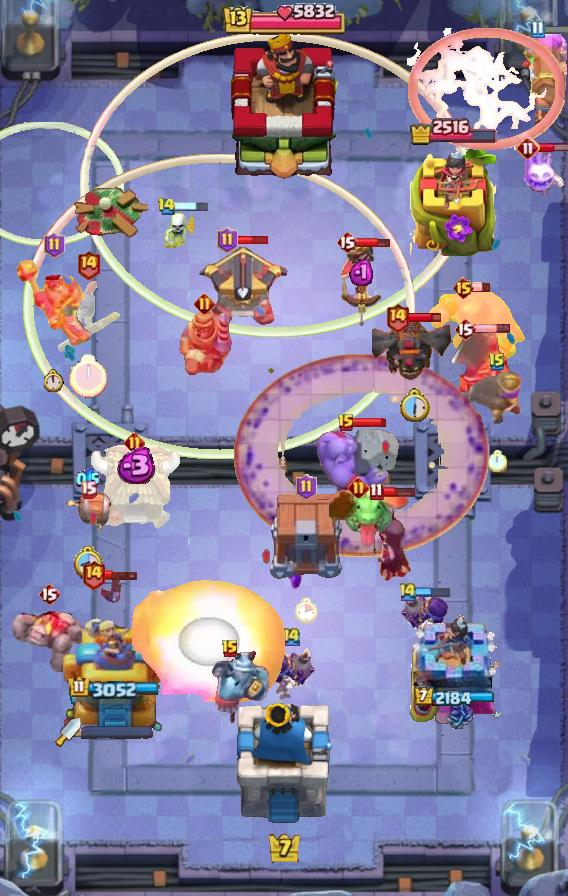archer-evolution: (372, 317, 456, 383)
archer-queen: (313, 424, 403, 502)
bar: (61, 615, 166, 731)
barbarian-barrel: (97, 575, 123, 605)
barbarian-evolution: (407, 28, 565, 150)
battle-healer: (522, 27, 568, 131)
bomb: (267, 494, 345, 580)
bomb-tower: (470, 370, 524, 424)
bomber-evolution: (337, 239, 385, 331)
clock: (221, 0, 347, 40)
clone: (427, 287, 527, 371)
electro-spirit: (111, 447, 156, 484), (349, 257, 373, 286), (76, 467, 100, 491)
electro-wizard: (329, 484, 411, 550)
elixir: (69, 354, 107, 398), (398, 389, 430, 423), (73, 546, 103, 581), (294, 597, 318, 624), (44, 368, 64, 392), (489, 450, 508, 472)
elixir-golem-small: (209, 647, 269, 725)
emote: (355, 235, 391, 248), (406, 312, 442, 325), (417, 585, 452, 598), (173, 201, 209, 213), (234, 234, 270, 246), (103, 569, 139, 581), (473, 322, 510, 333), (381, 486, 414, 498), (353, 416, 387, 427), (538, 143, 568, 154), (542, 24, 568, 35), (473, 283, 492, 294)
freeze: (14, 260, 94, 354)
goblin-ball: (398, 590, 450, 646), (266, 647, 318, 703)
heal-spirit: (164, 212, 196, 248)
king-tower: (222, 31, 346, 181), (235, 703, 333, 826)
king-tower-bar: (81, 725, 153, 739)
knight: (63, 492, 113, 534)
lava-pup: (196, 245, 288, 327)
mirror: (518, 149, 566, 197)
prince: (87, 442, 181, 532)
princess: (55, 281, 121, 353)
queen-tower: (406, 614, 503, 730), (410, 144, 496, 255)
ram-rider: (175, 303, 233, 379)
rascal-boy: (366, 496, 412, 584)
rocket: (233, 353, 489, 557)
royal-giant-evolution: (447, 329, 515, 399)
selected: (408, 116, 498, 146), (68, 676, 159, 700), (414, 687, 495, 709)
text: (76, 249, 101, 280), (385, 303, 410, 334), (82, 559, 106, 589), (516, 136, 540, 160), (452, 276, 475, 300), (217, 227, 238, 253), (43, 232, 64, 258), (295, 474, 316, 500), (336, 230, 358, 254), (454, 317, 476, 341), (38, 582, 60, 606), (193, 294, 215, 315), (348, 477, 369, 499), (123, 432, 144, 453), (398, 581, 418, 602), (282, 625, 302, 646), (157, 197, 176, 216), (488, 352, 506, 372), (337, 413, 355, 433), (221, 639, 239, 659), (80, 481, 97, 499), (531, 21, 545, 39), (369, 483, 383, 501)
valkyrie: (130, 580, 286, 702)
valkyrie-evolution: (12, 610, 86, 672)
